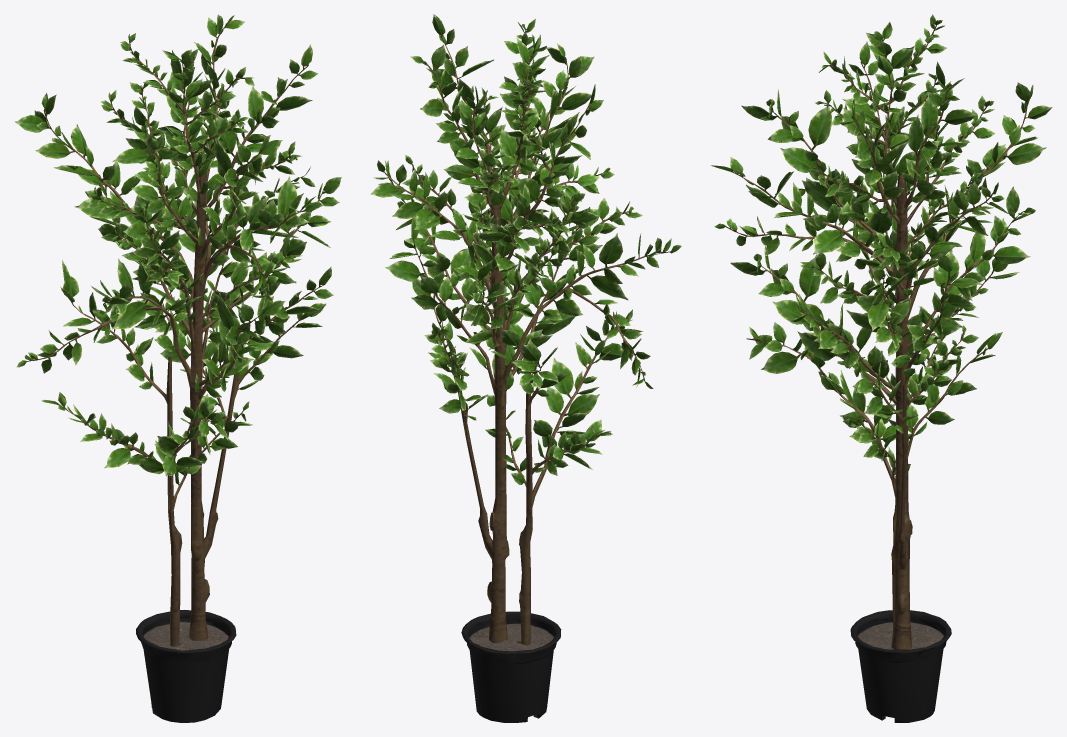
Rendered from Plant4.glb.
3 views of the same model, side by side, from view 1: azimuth 30°, elevation 25°; view 2: azimuth 150°, elevation 25°; view 3: azimuth 270°, elevation 25° (orthographic).
Parts seen in each view (by area): view 1: ProcessedMeshNode; view 2: ProcessedMeshNode; view 3: ProcessedMeshNode.
Boxes of the visible parts, bbox=[...] form: ProcessedMeshNode: bbox=[15, 14, 341, 722]; ProcessedMeshNode: bbox=[370, 14, 681, 722]; ProcessedMeshNode: bbox=[710, 14, 1052, 722].
Bounding box in the file's own units: 0.7945 × 1.71 × 0.7898.
1 material, 1 textured.
